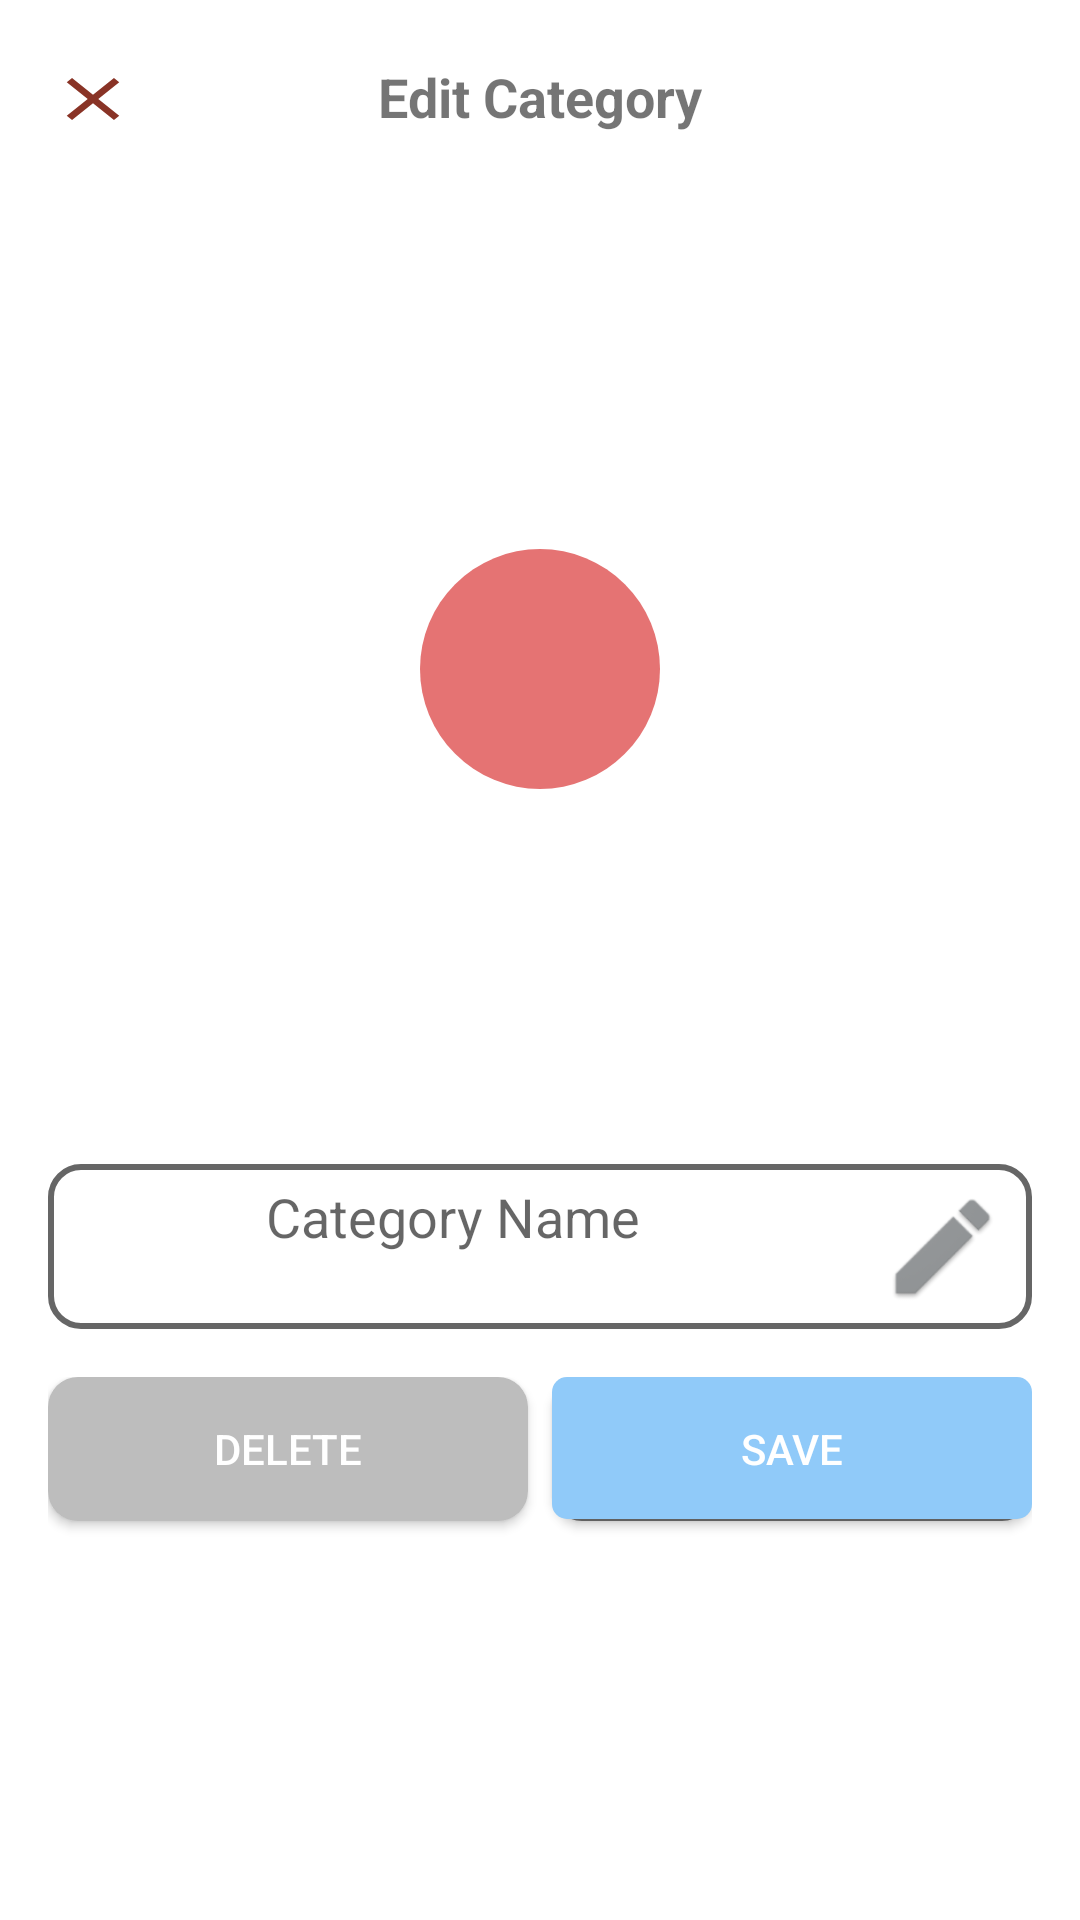

Icon bounding boxes for this 1080 x 1920 phone screenshot, format (x1, y1, x2, y2):
close: (67, 78, 119, 120)
edit: (895, 1199, 990, 1297)
